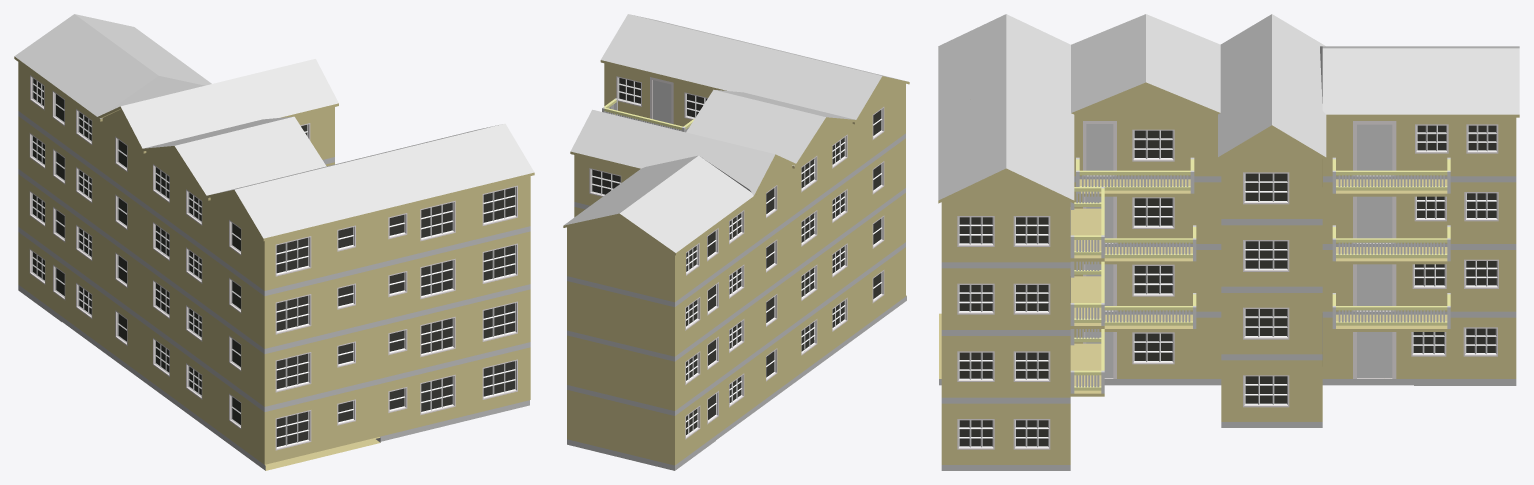
File: Apartment 9.fbx
3 renders of one model, left to right at view 1: azimuth 30°, elevation 25°; view 2: azimuth 150°, elevation 25°; view 3: azimuth 270°, elevation 25°, orthographic. The views are drawn at different scales.
Visible parts, largest first — view 1: building_003; view 2: building_003; view 3: building_003.
Boxes of the visible parts, left/top/right/bottom form: building_003: left=14, top=14, right=534, bottom=470; building_003: left=563, top=14, right=909, bottom=470; building_003: left=938, top=14, right=1519, bottom=470.
Size of the model in its own units: 1077 by 992 by 1714.
